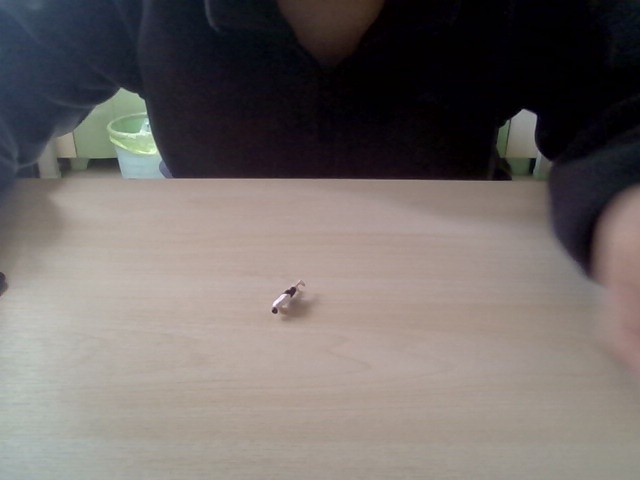fall: (265, 276, 309, 320)
